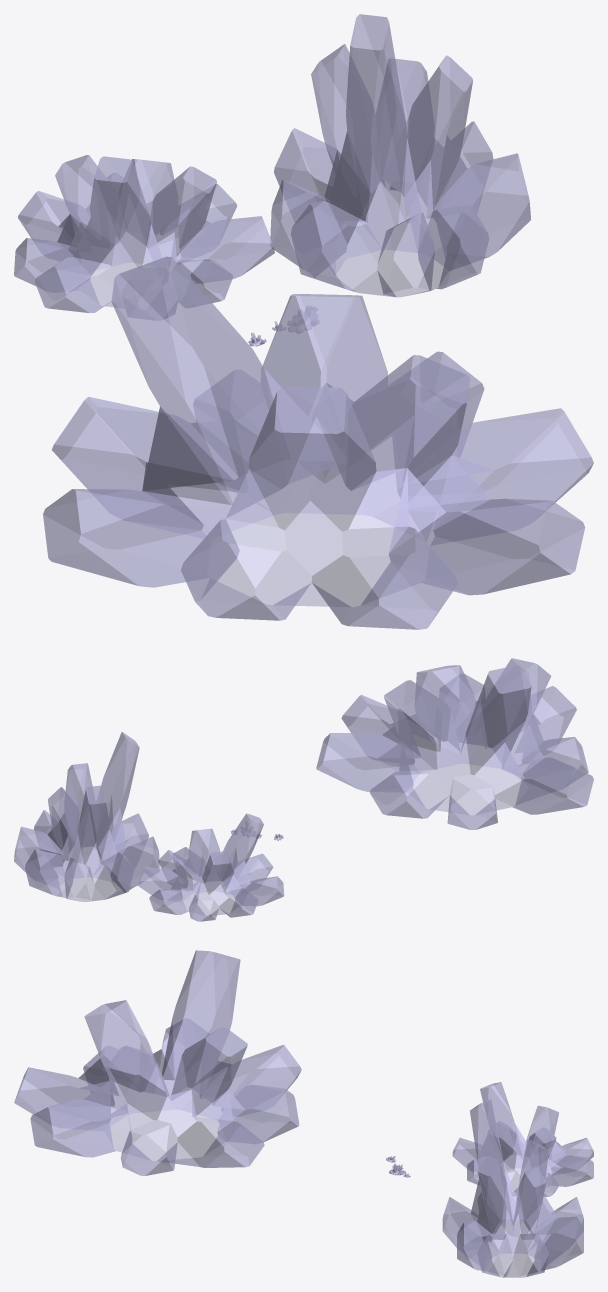
The model's file is Crystals.fbx.
The picture shows the model from 3 angles, top to bottom: view 1: azimuth 30°, elevation 25°; view 2: azimuth 150°, elevation 25°; view 3: azimuth 270°, elevation 25°; orthographic projection. The views are drawn at different scales.
Parts seen in each view (by area): view 1: CrystalMountain; view 2: CrystalMountain; view 3: CrystalMountain.
Part boxes in pixels (x1,y1,x2,y2): CrystalMountain: (14, 14, 593, 629); CrystalMountain: (14, 658, 593, 921); CrystalMountain: (14, 950, 593, 1277).
Bounding box in the file's own units: 229 × 96.94 × 284.
